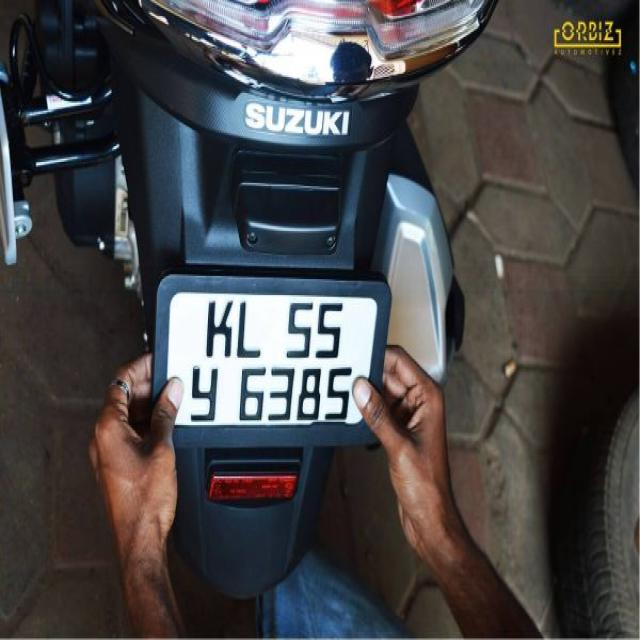license_plate: (150, 268, 392, 446)
